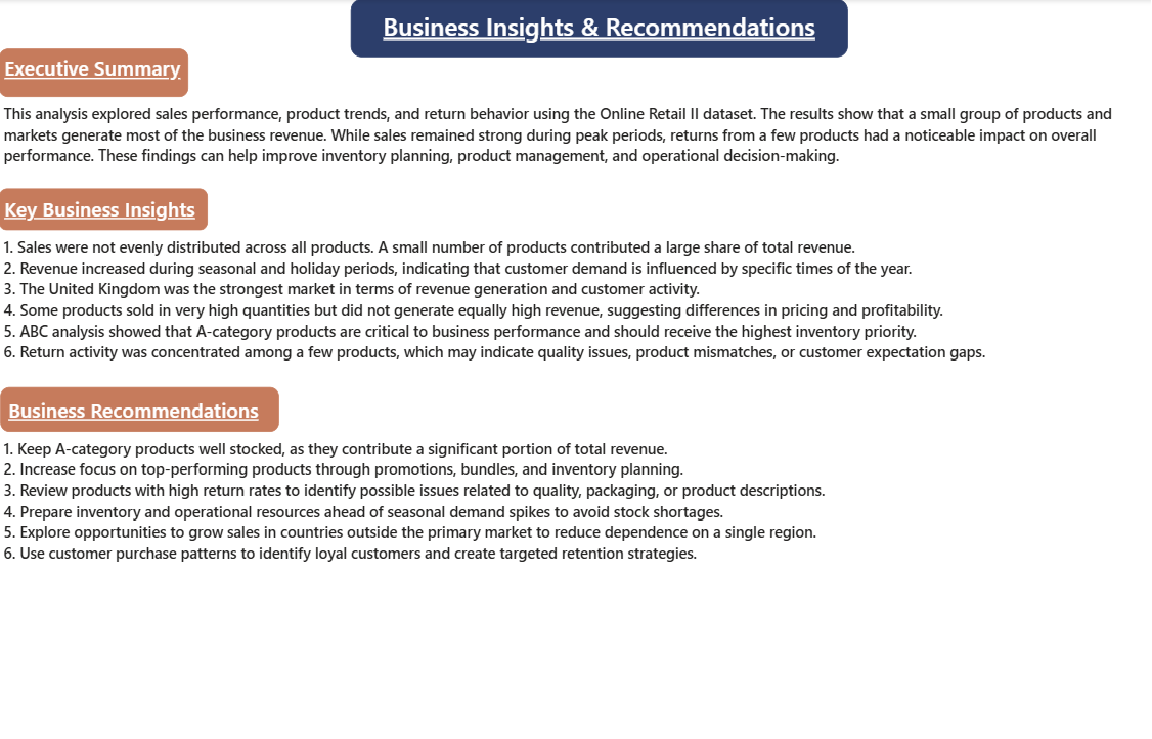

What the dashboard file says about the page in this screenshot:
{"tool":"powerbi","page":{"name":"Business Insights & Recommendations","canvas":[1280,720],"ordinal":3},"visuals":[{"type":"textbox","box":[377.4,0,533.8,60.4],"z":0},{"type":"textbox","box":[0,50.8,203.1,50.8],"z":1},{"type":"textbox","box":[0,101.5,1255.6,116.6],"z":2},{"type":"textbox","box":[0,194.9,223.7,43.9],"z":3},{"type":"textbox","box":[0,238.8,1221.3,149.6],"z":4},{"type":"textbox","box":[0,446,1221.3,150.9],"z":5},{"type":"textbox","box":[1.4,399.3,299.1,46.7],"z":6}]}

Visuals, with their boxes on the page's 1280x720 design canvas (x1, y1, x2, y2). These are canvas units, not pixel positions in the 1152x739 screenshot, which may show the page scaled, cropped or inside an application window:
textbox: <box>377,0,911,60</box>
textbox: <box>0,51,203,102</box>
textbox: <box>0,102,1256,218</box>
textbox: <box>0,195,224,239</box>
textbox: <box>0,239,1221,388</box>
textbox: <box>0,446,1221,597</box>
textbox: <box>1,399,300,446</box>
